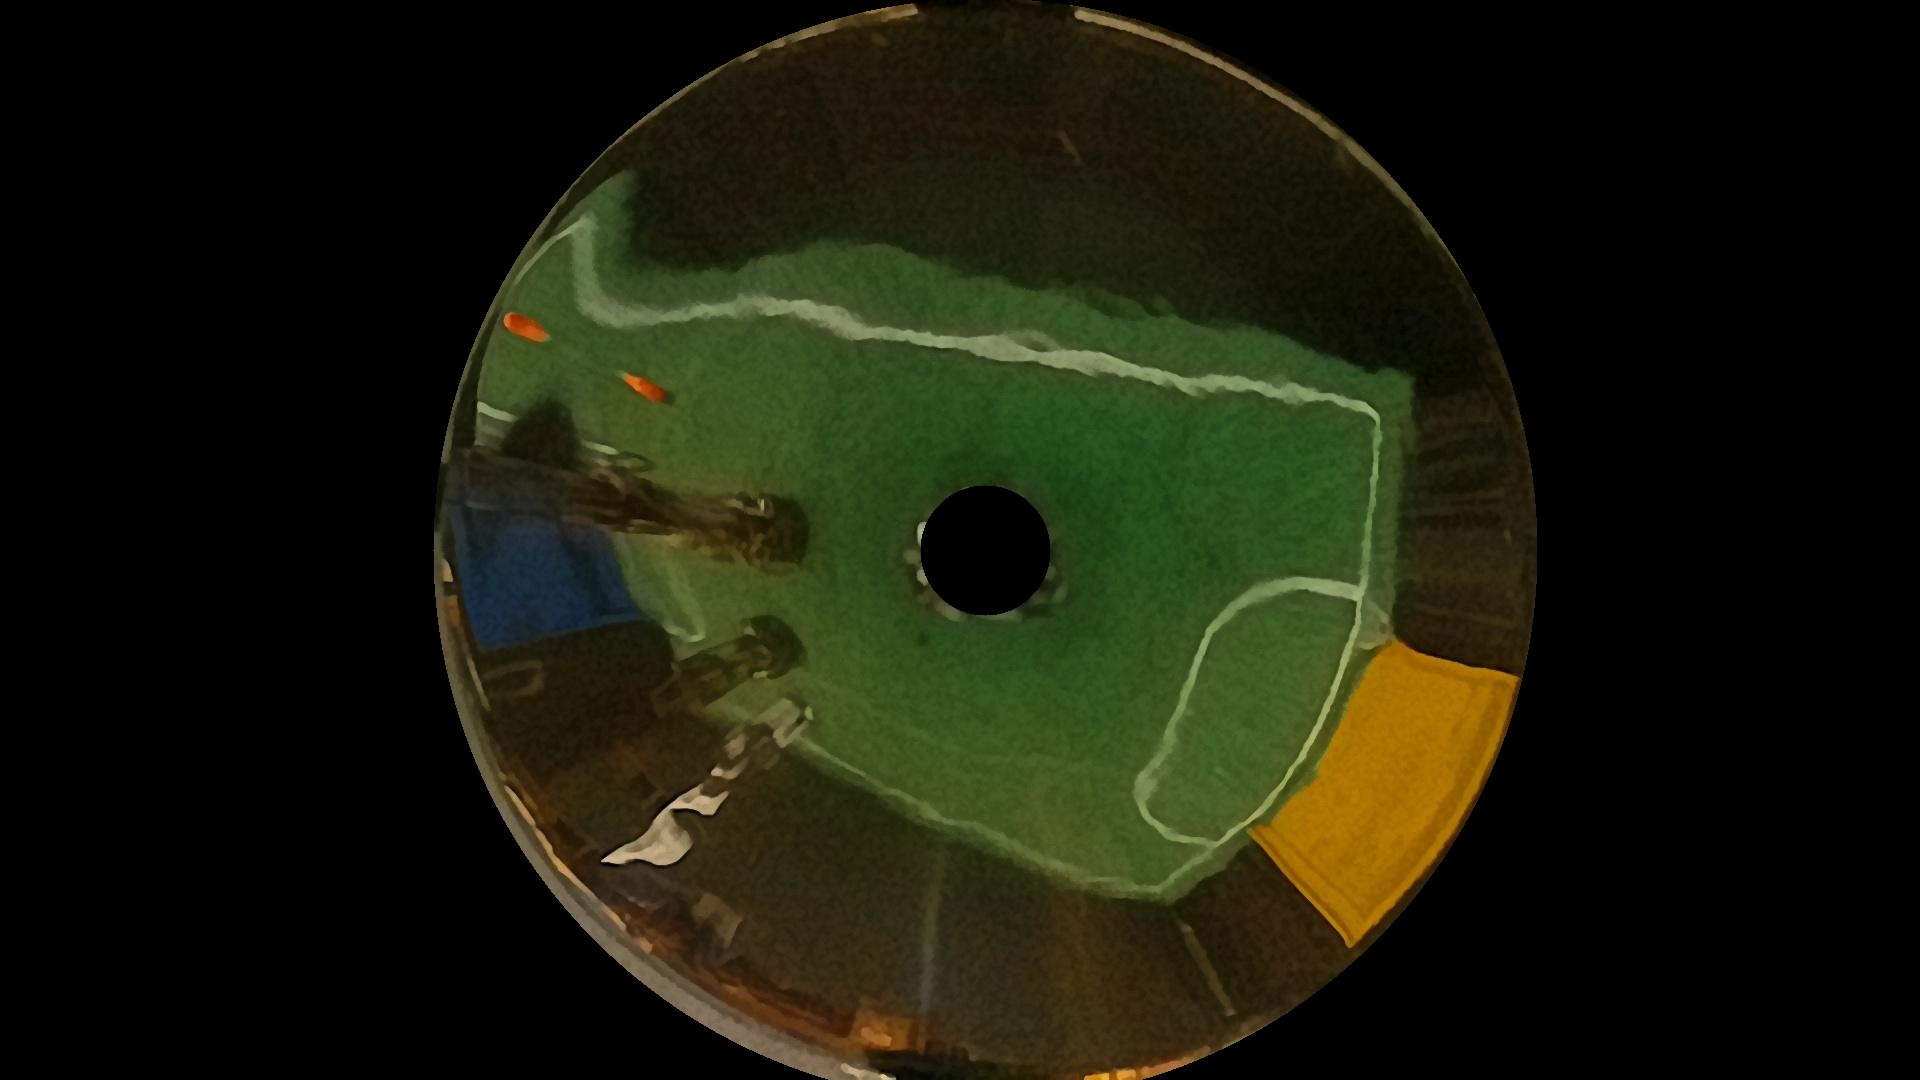ball: (613, 352, 662, 406)
blue-goal: (455, 456, 644, 637)
robots: (542, 444, 800, 568), (645, 707, 816, 814), (658, 628, 802, 687)
yellow-goal: (1275, 625, 1472, 928)
